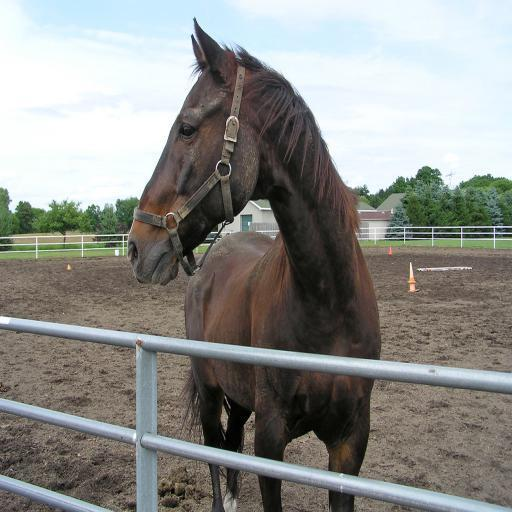horse: (124, 16, 380, 512)
